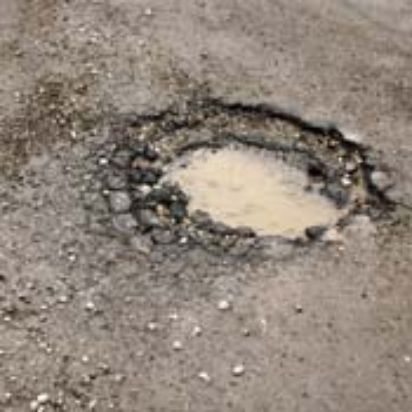pothole: (102, 97, 397, 250)
